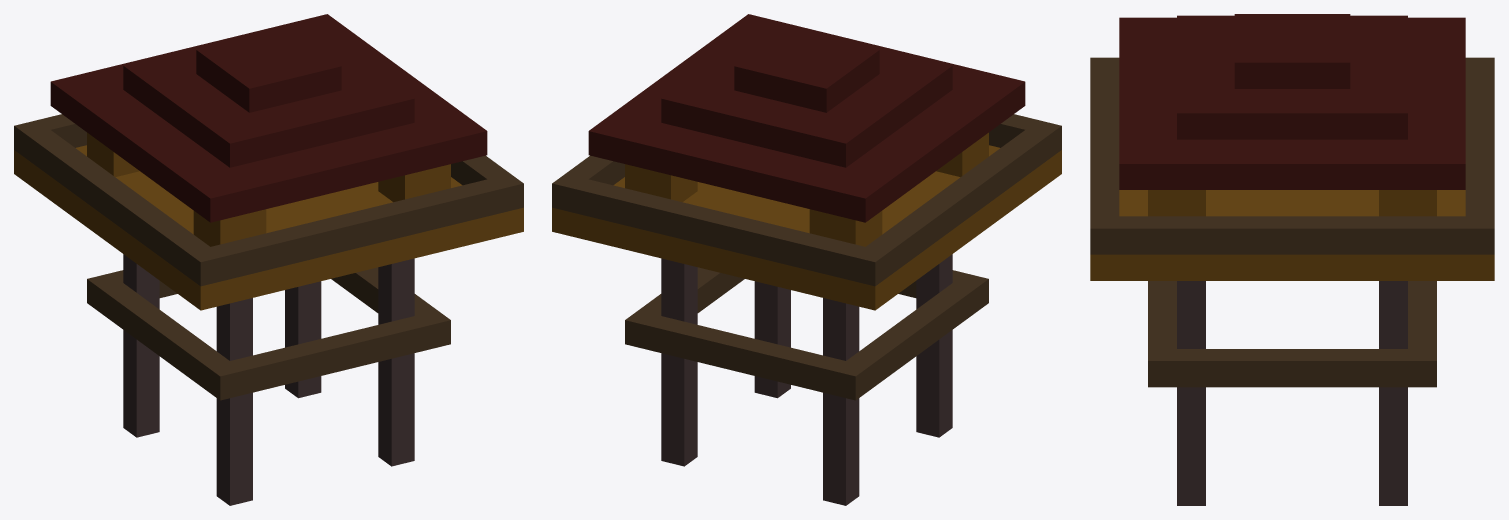
The model's file is Lookout.glb.
3 renders of one model, left to right at view 1: azimuth 30°, elevation 25°; view 2: azimuth 150°, elevation 25°; view 3: azimuth 270°, elevation 25°, orthographic. The views are drawn at different scales.
Parts seen in each view (by area): view 1: VoxelModel; view 2: VoxelModel; view 3: VoxelModel.
Boxes of the visible parts, bbox=[...] form: VoxelModel: bbox=[14, 14, 523, 505]; VoxelModel: bbox=[552, 14, 1061, 505]; VoxelModel: bbox=[1090, 14, 1494, 505].
Bounding box in the file's own units: 14 × 16 × 14.
